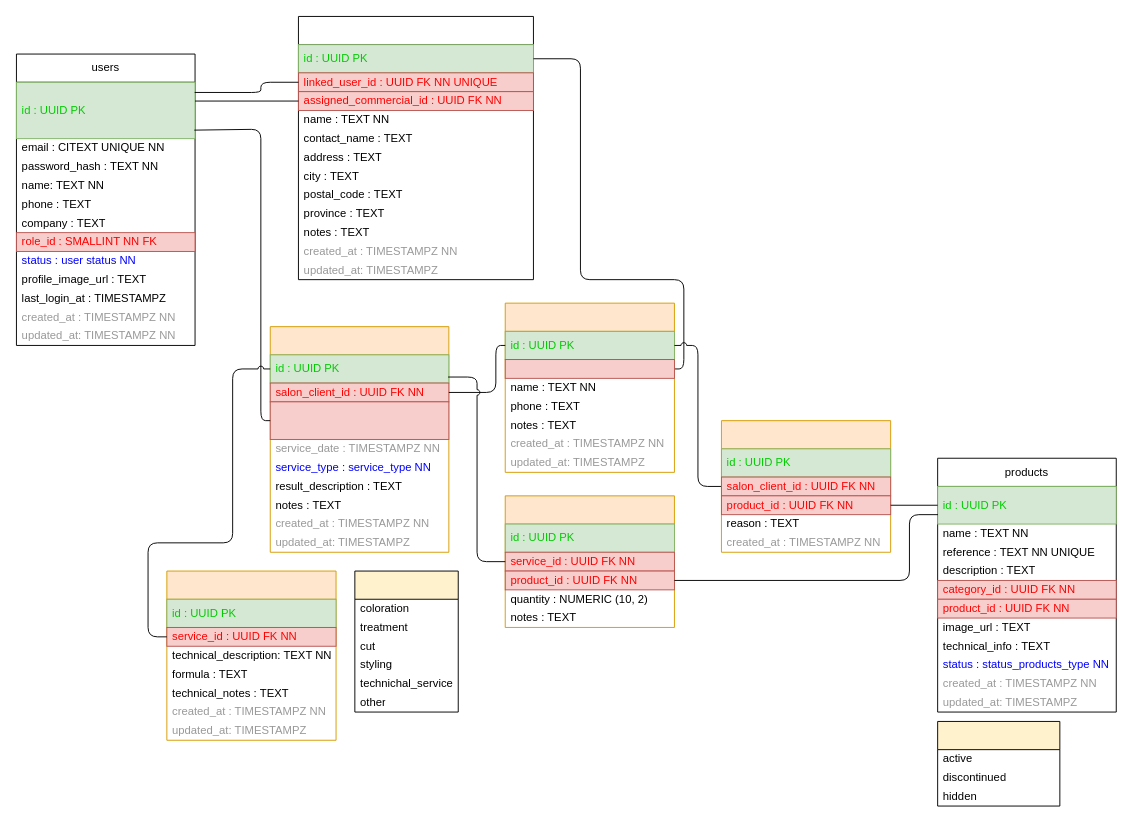
Image size: 1133x823. Some labels were removed from this diagram. The shapes that lost their labels are listed below. From the top down, each one's box as (x1, y1, x2, y2) in pixels, then its label:
(298, 16, 533, 280): clients
(504, 359, 674, 378): client_id : UUID FK NN
(504, 302, 674, 472): salon_clients
(269, 401, 449, 439): performed_by_user_id : UUID FK NN
(269, 326, 449, 552): salon_services
(721, 420, 891, 552): product_suggestions
(504, 495, 674, 627): service_products
(166, 570, 336, 740): service_technical_record
(354, 570, 458, 712): service_type
(937, 721, 1060, 806): status_products_type
